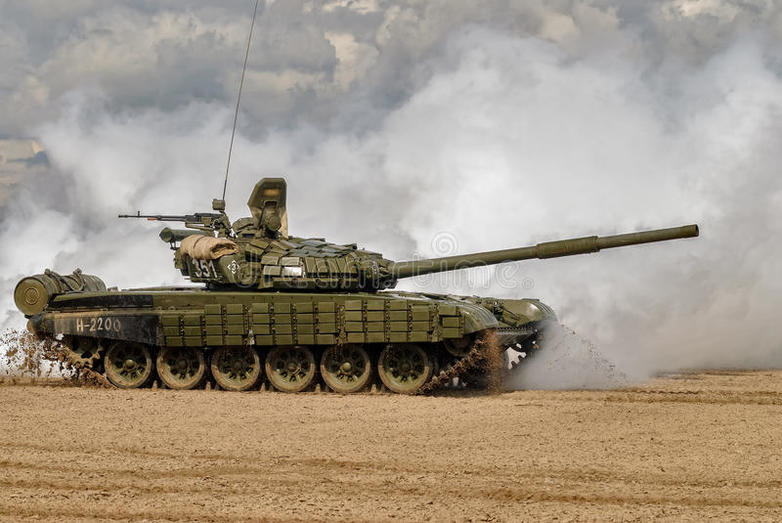t72: (18, 228, 706, 398)
